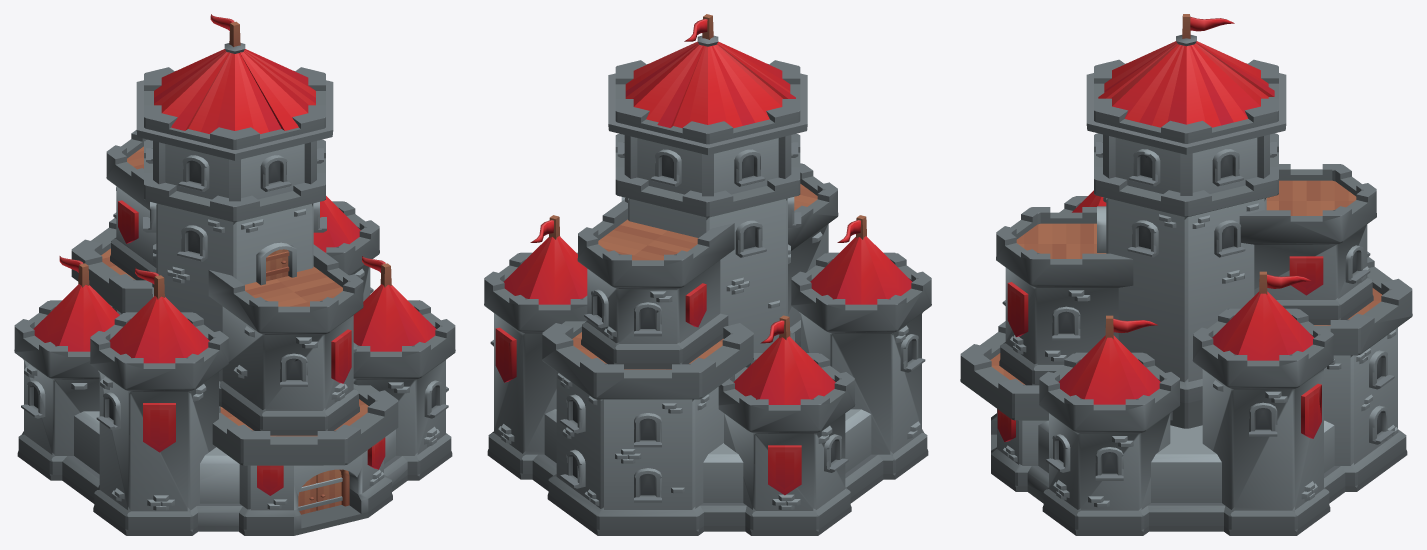
File: base-rust.glb
3 renders of one model, left to right at view 1: azimuth 30°, elevation 25°; view 2: azimuth 150°, elevation 25°; view 3: azimuth 270°, elevation 25°, orthographic.
Parts seen in each view (by area): view 1: building_castle_red; view 2: building_castle_red; view 3: building_castle_red.
Boxes of the visible parts, left/top/right/bottom form: building_castle_red: left=14, top=14, right=455, bottom=535; building_castle_red: left=484, top=14, right=931, bottom=535; building_castle_red: left=960, top=14, right=1412, bottom=535.
Bounding box in the file's own units: 4.91 × 6 × 5.59.
3 materials, 3 textured.
